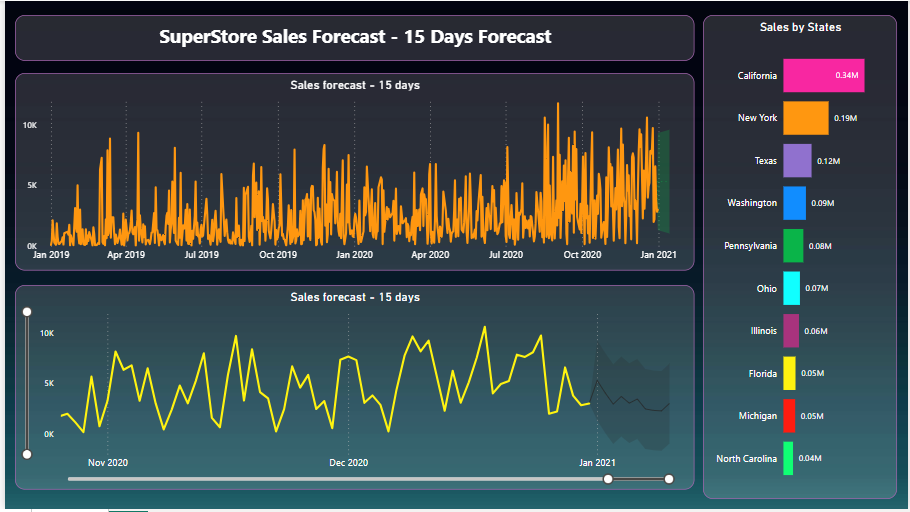

This screenshot's page, from the dashboard's own definition file:
{"tool":"powerbi","page":{"name":"Page 2","canvas":[1280,720],"ordinal":1},"visuals":[{"type":"lineChart","title":"Sales forecast - 15 days","fields":{"Y":["Sum(SuperStore Sales DataSet.Sales)"],"Category":["SuperStore Sales DataSet.Order Date"]},"box":[13.7,402.8,962.6,290.1],"z":0},{"type":"lineChart","title":"Sales forecast - 15 days","fields":{"Y":["Sum(SuperStore Sales DataSet.Sales)"],"Category":["SuperStore Sales DataSet.Order Date"]},"box":[13.7,102.4,962.6,279.9],"z":1000},{"type":"clusteredBarChart","title":"Sales by States","fields":{"Category":["SuperStore Sales DataSet.State"],"Y":["Sum(SuperStore Sales DataSet.Sales)"]},"box":[989.9,20.5,274.8,686.1],"z":2000},{"type":"textbox","box":[13.7,20.5,962.6,64.9],"z":3000}]}

Visuals, with their boxes in screenshot pixels (x1, y1, x2, y2), scaled from the page's 1280x720 canvas onto the 910x512 screenshot:
"Sales forecast - 15 days" lineChart: pyautogui.locateOnScreen(10, 286, 694, 493)
"Sales forecast - 15 days" lineChart: pyautogui.locateOnScreen(10, 73, 694, 272)
"Sales by States" clusteredBarChart: pyautogui.locateOnScreen(704, 15, 899, 502)
textbox: pyautogui.locateOnScreen(10, 15, 694, 61)
